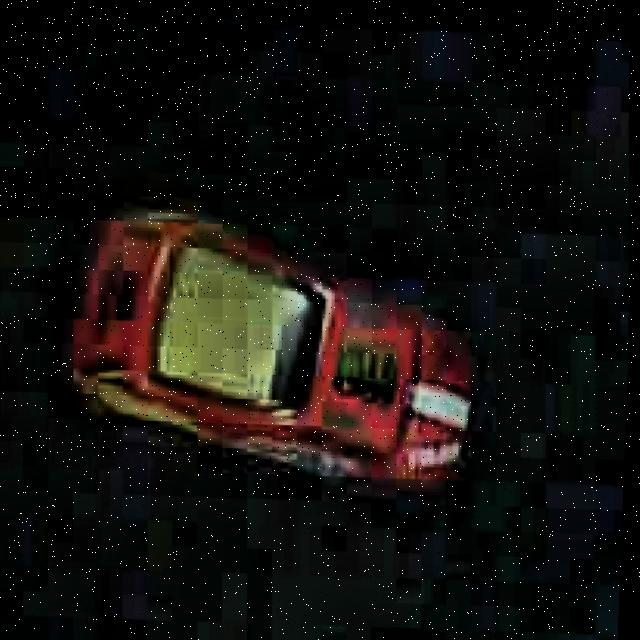car: (37, 178, 496, 517)
